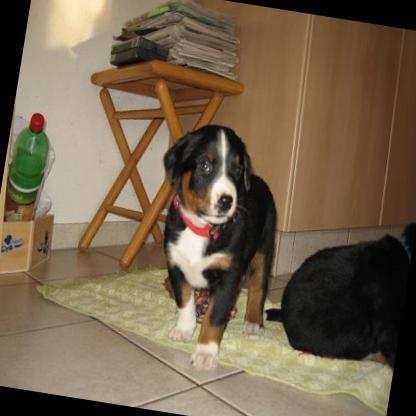Appenzeller: (129, 116, 294, 380), (258, 198, 415, 371)
